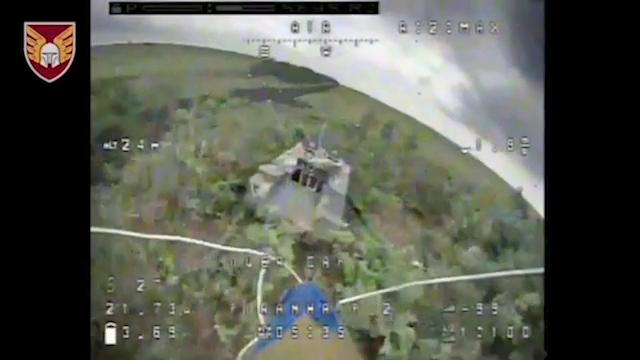tank: (241, 120, 355, 256)
